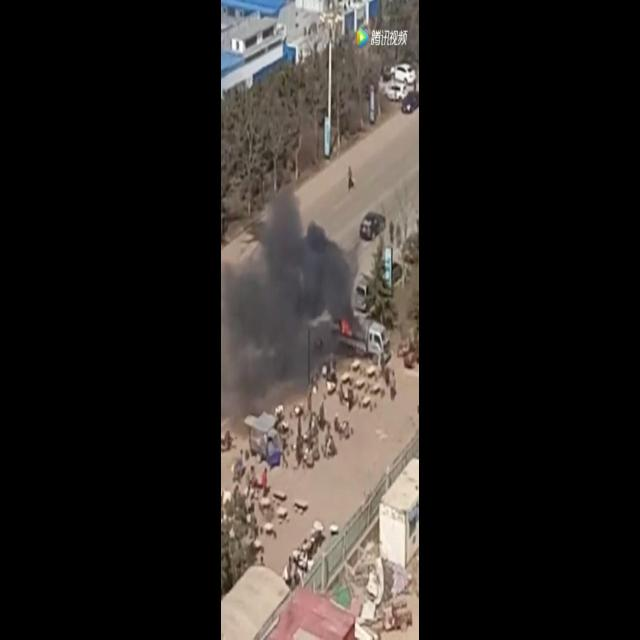fire: (338, 315, 353, 335)
smoke: (222, 200, 340, 390)
